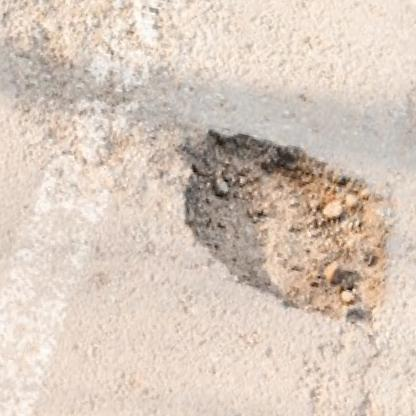pothole: (158, 118, 412, 333)
